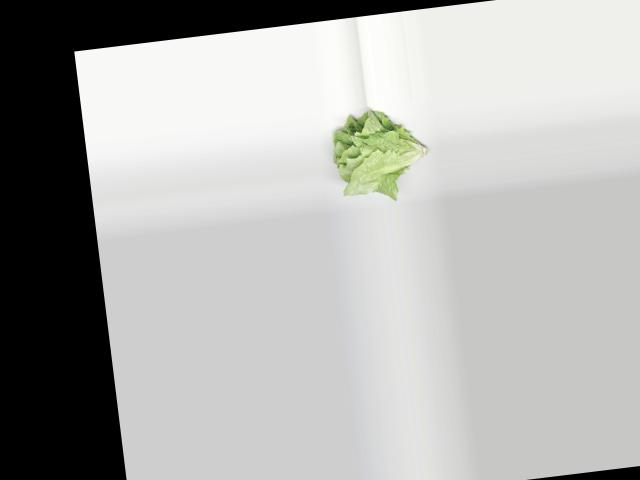lettuce: (327, 103, 436, 206)
